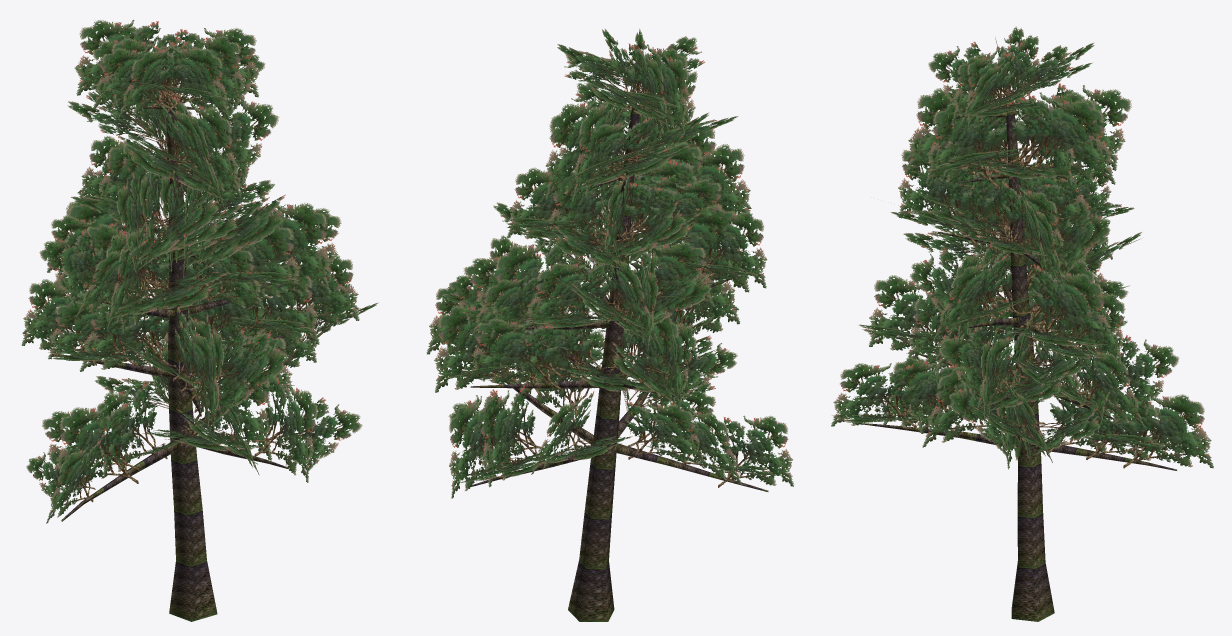
File: grave_tree_lod1.glb
3 views of the same model, side by side, from view 1: azimuth 30°, elevation 25°; view 2: azimuth 150°, elevation 25°; view 3: azimuth 270°, elevation 25° (orthographic). The views are drawn at different scales.
Parts seen in each view (by area): view 1: grave_tree_lod1; view 2: grave_tree_lod1; view 3: grave_tree_lod1.
Boxes of the visible parts, x1,y1,x2,y2 form: grave_tree_lod1: [21, 20, 378, 621]; grave_tree_lod1: [426, 28, 793, 621]; grave_tree_lod1: [831, 26, 1213, 621].
Size of the model in its own units: 29.38 by 45.44 by 29.15.
2 materials, 2 textured.
